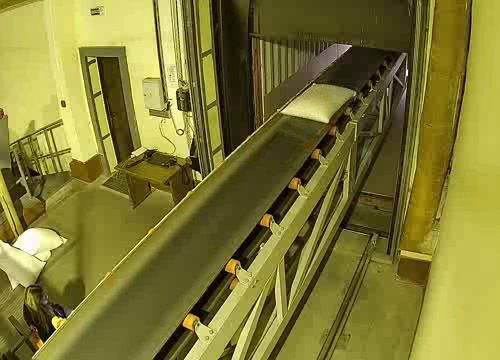bag: (276, 77, 371, 124)
